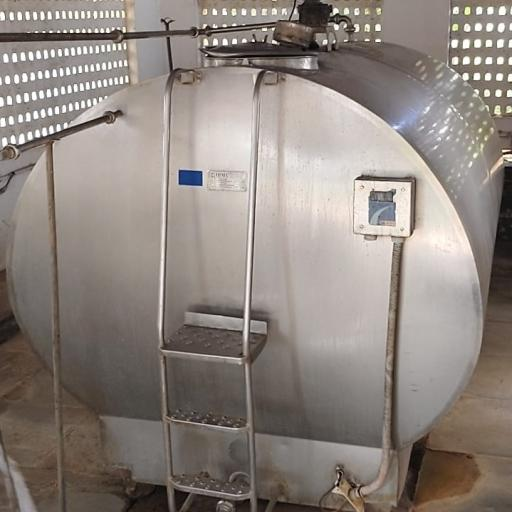silo: (8, 39, 502, 505)
